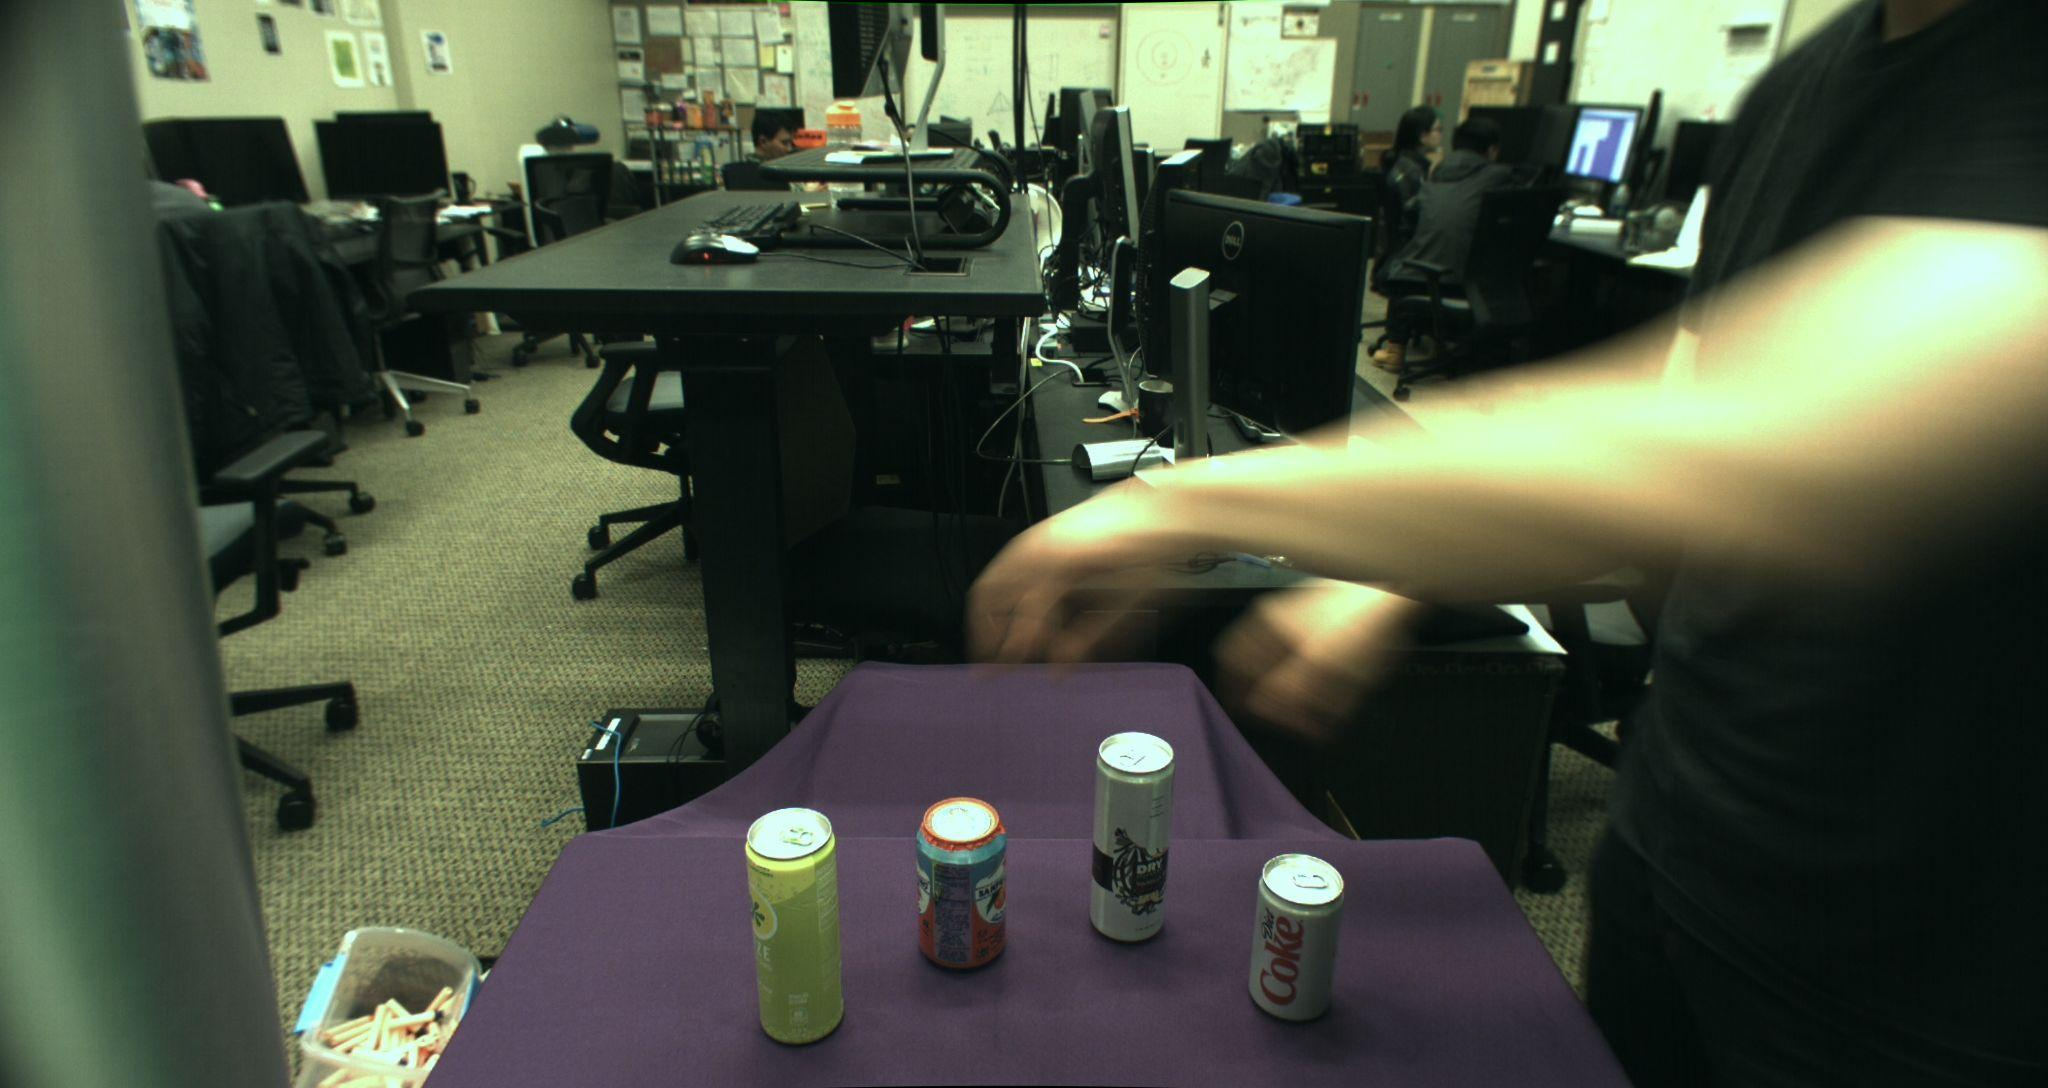can_diet_coke_small: (1249, 852, 1344, 1022)
can_dry_sparkling_vanilla_bean: (1089, 732, 1174, 943)
can_izze_fusions_lemon_lime: (745, 806, 842, 1045)
can_sanpellegrino_blood_orange: (916, 797, 1008, 971)
